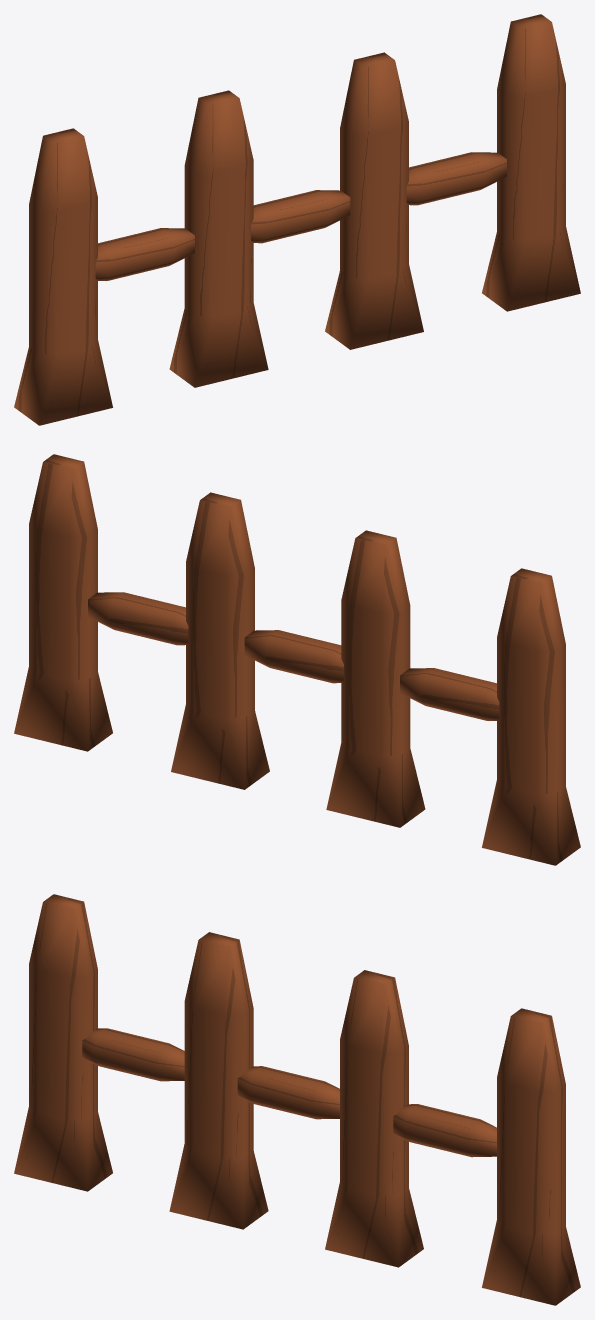
Rendered from cercaPACKsemCONTIUAÇÂO.fbx.
The picture shows the model from 3 angles, top to bottom: view 1: azimuth 30°, elevation 25°; view 2: azimuth 150°, elevation 25°; view 3: azimuth 330°, elevation 25°; orthographic projection.
Parts seen in each view (by area): view 1: Cube.011; view 2: Cube.011; view 3: Cube.011.
Boxes of the visible parts, box(x1,y1,x2,y2) form: Cube.011: box(14, 14, 580, 425); Cube.011: box(14, 454, 580, 865); Cube.011: box(14, 894, 580, 1305).
Size of the model in its own units: 417 by 200 by 33.79.
